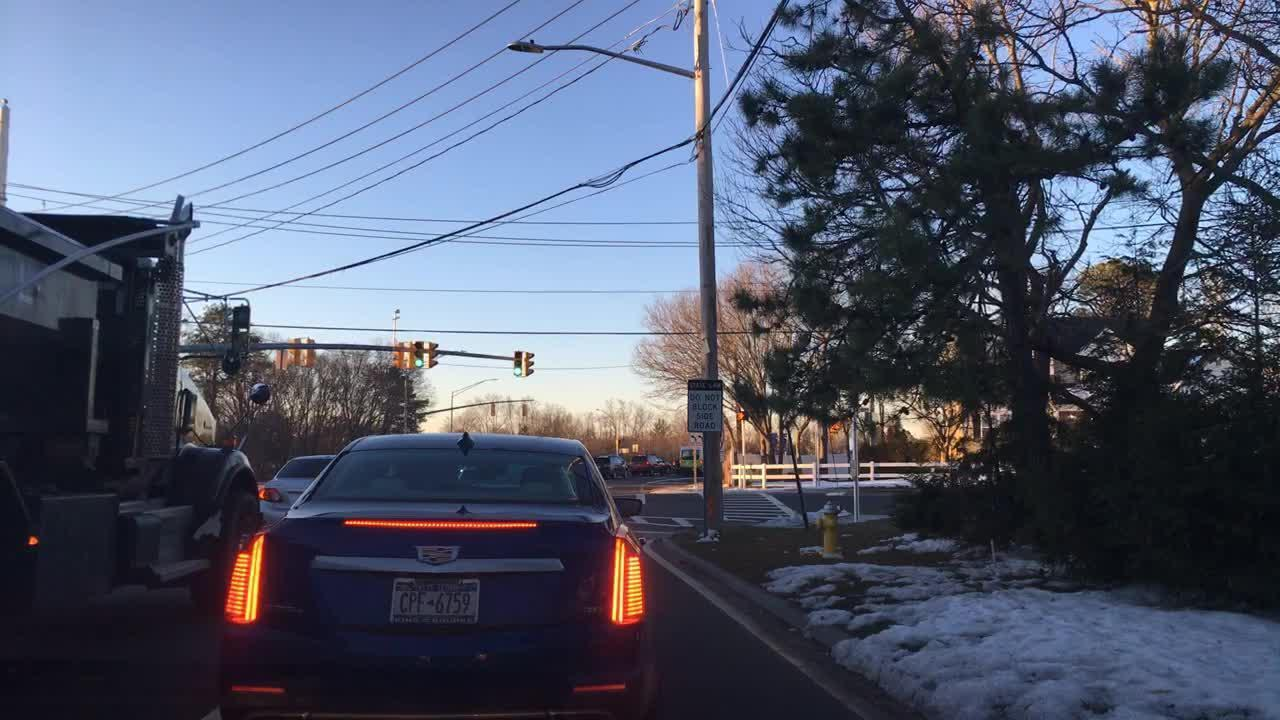cadillac: (411, 539, 465, 567)
